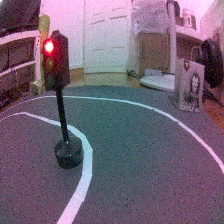red: (41, 28, 86, 169)
